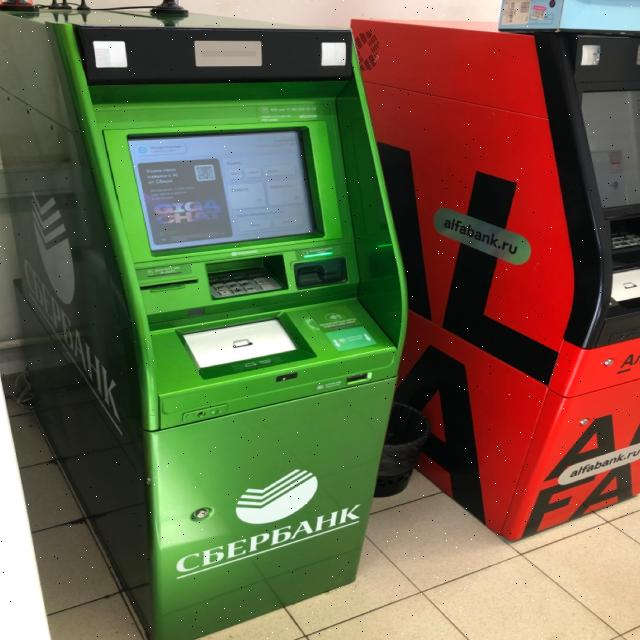bank: (1, 1, 404, 640)
